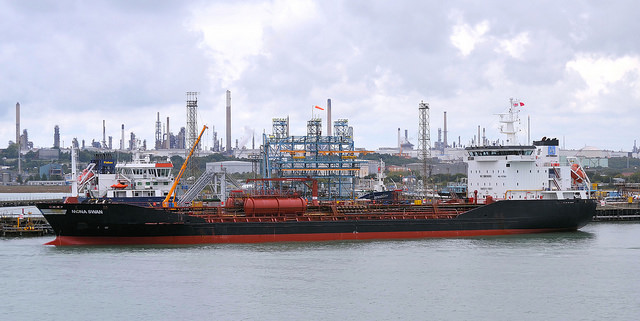tanker: (42, 115, 594, 245)
